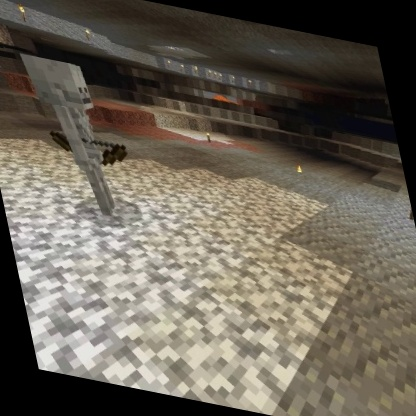skeleton: (14, 48, 147, 227)
